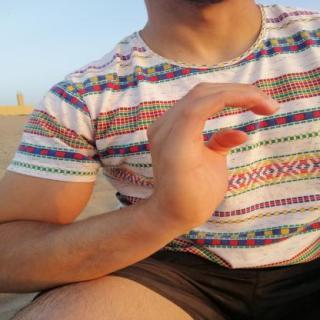JEEM: (137, 76, 290, 232)
